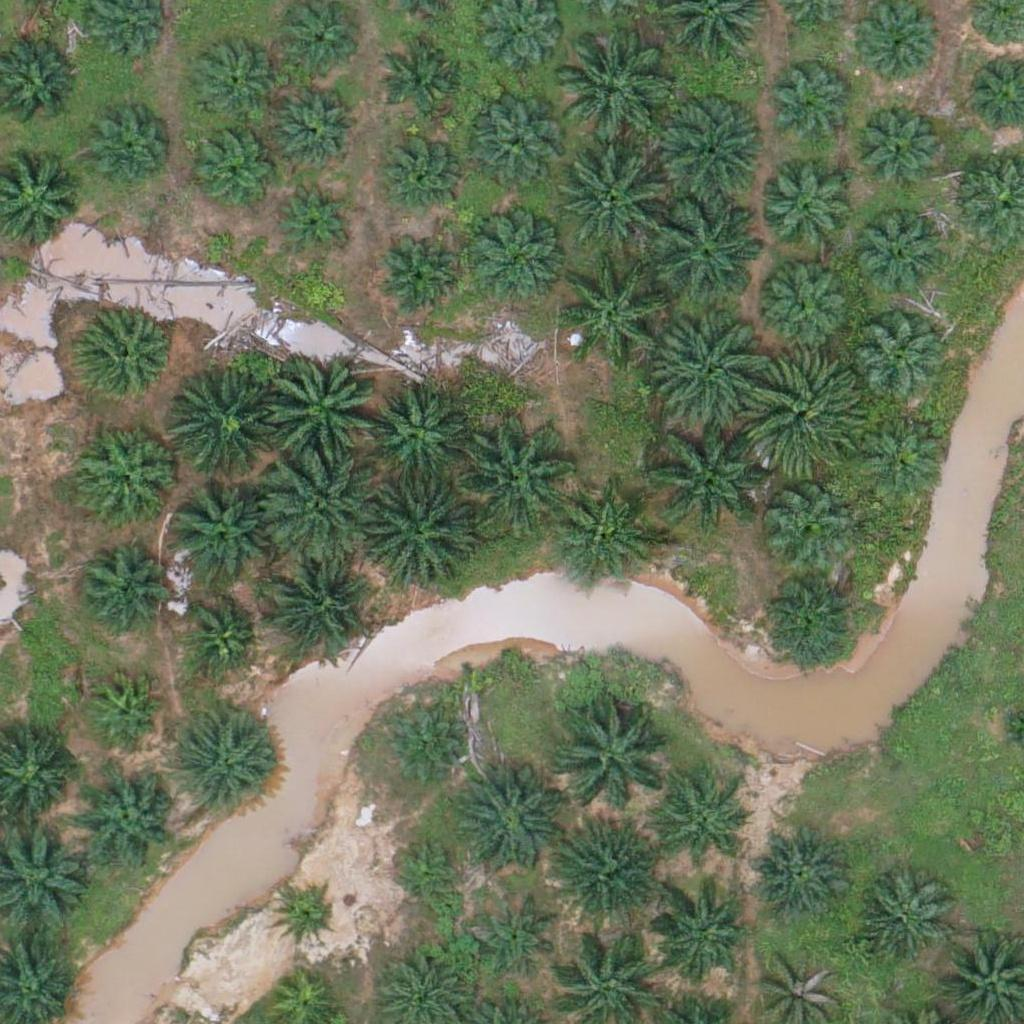Kelapa_Sawit: (359, 476, 472, 590), (648, 91, 761, 205), (556, 694, 669, 807), (450, 767, 563, 880), (747, 355, 860, 468), (652, 189, 765, 302), (166, 372, 279, 485), (659, 316, 771, 430), (648, 418, 760, 531), (546, 822, 658, 935), (459, 418, 571, 531), (267, 451, 379, 564), (560, 255, 672, 368), (560, 146, 672, 259), (556, 34, 668, 147), (266, 355, 378, 468), (852, 868, 952, 969), (648, 888, 748, 989), (167, 481, 267, 582), (848, 208, 948, 309), (465, 101, 565, 202), (366, 382, 466, 483), (758, 570, 858, 670), (749, 823, 849, 923), (555, 491, 655, 591), (265, 556, 365, 656), (175, 716, 275, 816), (78, 424, 178, 524), (81, 769, 181, 869), (758, 254, 858, 354), (762, 158, 862, 258), (464, 207, 564, 307), (76, 309, 176, 409), (762, 477, 850, 565), (473, 895, 561, 983), (378, 703, 466, 791), (75, 541, 163, 629), (859, 412, 947, 500), (768, 61, 856, 149), (376, 236, 464, 324), (660, 784, 747, 872), (856, 4, 943, 92), (857, 320, 944, 408), (852, 99, 939, 187), (84, 105, 171, 193), (194, 122, 281, 210), (190, 37, 277, 125), (276, 82, 363, 170), (374, 126, 461, 214), (382, 29, 469, 117), (277, 179, 352, 255), (87, 672, 162, 748), (182, 598, 257, 673), (390, 834, 465, 909), (275, 885, 338, 948)
